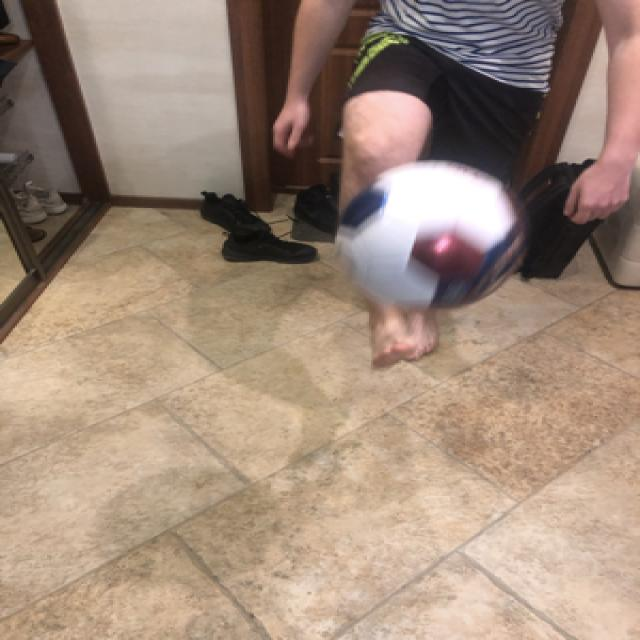soccer_ball: (328, 158, 525, 310)
